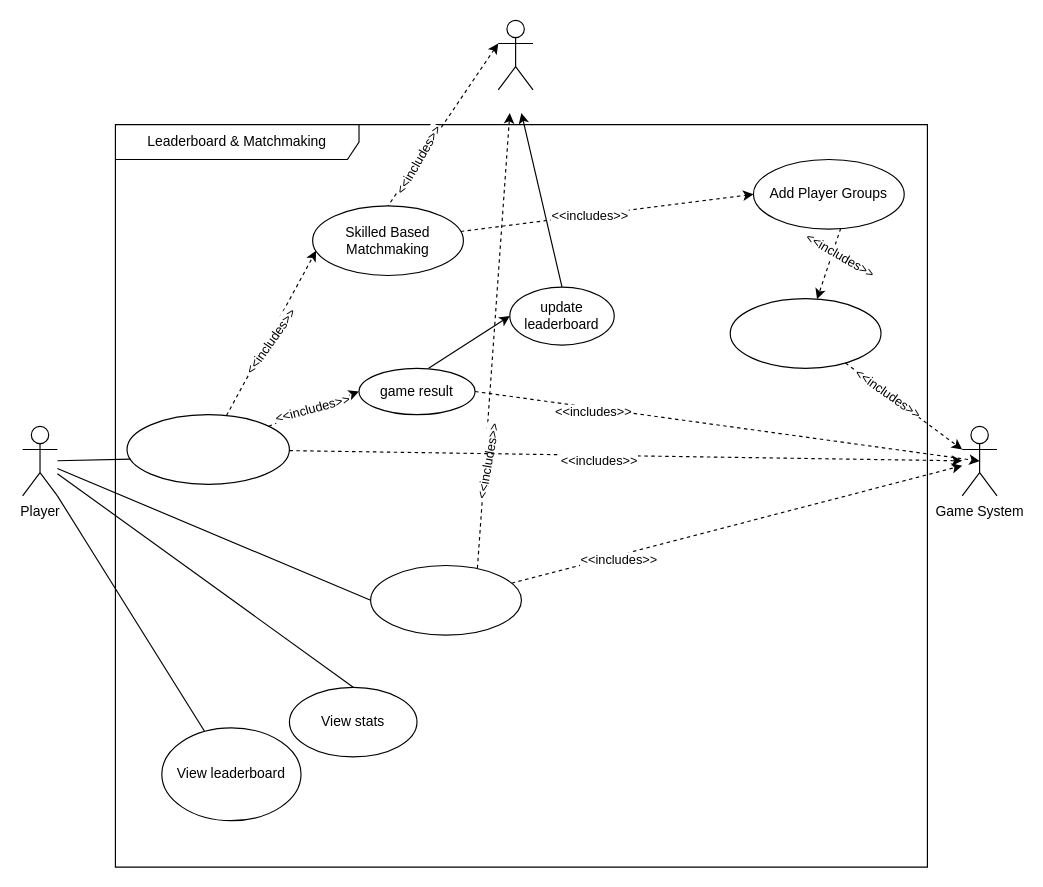
Image size: 1043x887. Some labels were removed from this diagram. Each missing label, with the centre of its shape:
"Database" goes at pixel 515 54.
"Signal Start Match" goes at pixel 805 333.
"Spectate Game" goes at pixel 445 599.
"Start Game Search" goes at pixel 207 449.
